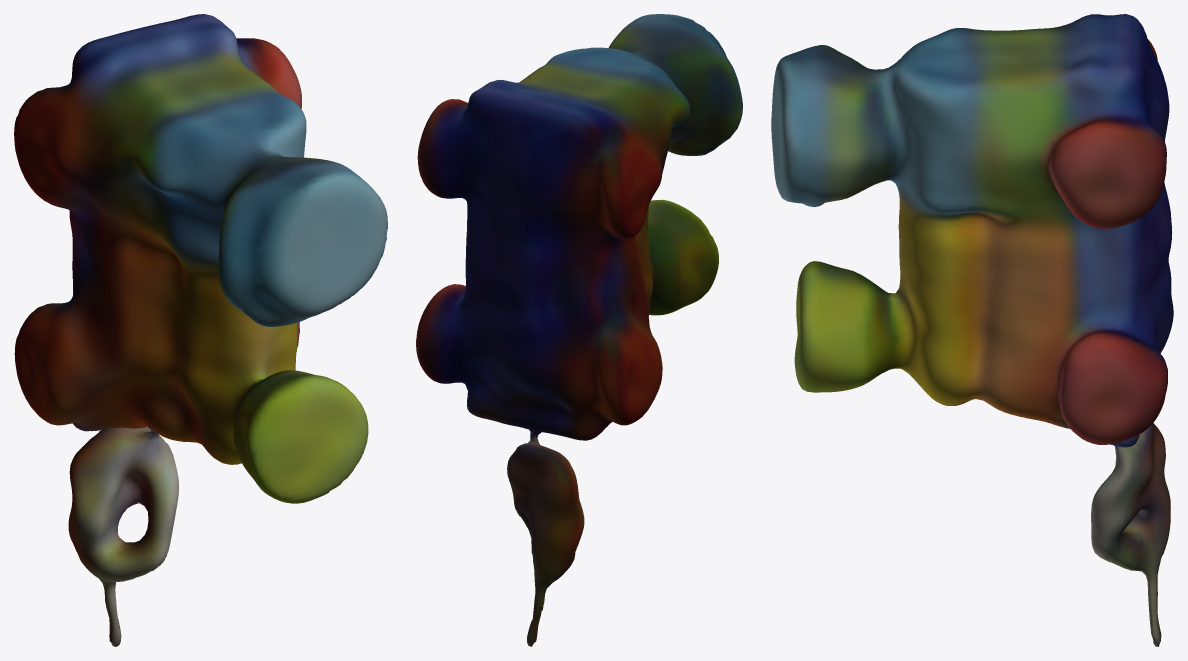
Rendered from train.glb.
The picture shows the model from 3 angles, left to right: view 1: azimuth 30°, elevation 25°; view 2: azimuth 150°, elevation 25°; view 3: azimuth 270°, elevation 25°; orthographic projection. The views are drawn at different scales.
Size of the model in its own units: 0.422 by 0.9977 by 0.5923.
